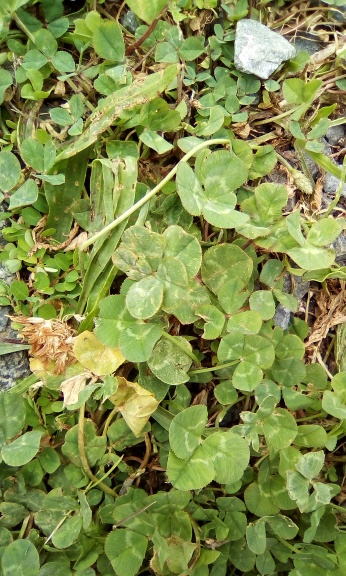4leaf: (109, 223, 212, 325)
